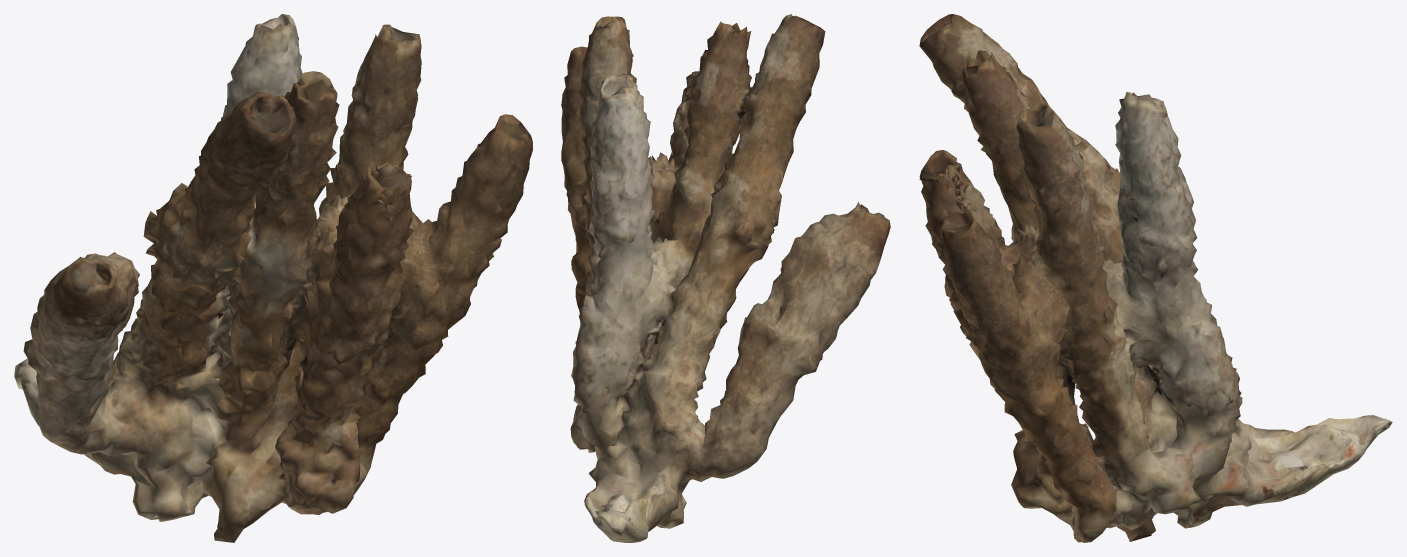
The model's file is tube_sponge.glb.
3 views of the same model, side by side, from view 1: azimuth 30°, elevation 25°; view 2: azimuth 150°, elevation 25°; view 3: azimuth 270°, elevation 25° (orthographic). The views are drawn at different scales.
Parts seen in each view (by area): view 1: prop; view 2: prop; view 3: prop.
Boxes of the visible parts, x1,y1,x2,y2 form: prop: [14, 14, 532, 542]; prop: [561, 14, 890, 542]; prop: [919, 14, 1392, 542].
Size of the model in its own units: 0.8309 by 0.9974 by 0.8618.
1 material, 1 textured.
